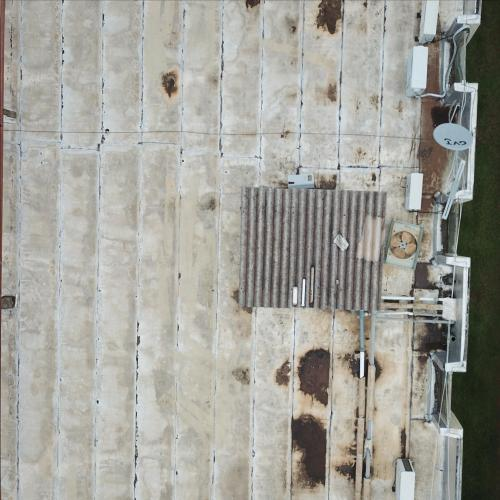conde: (406, 43, 432, 103), (413, 1, 444, 46), (392, 456, 421, 500), (404, 171, 428, 217)
